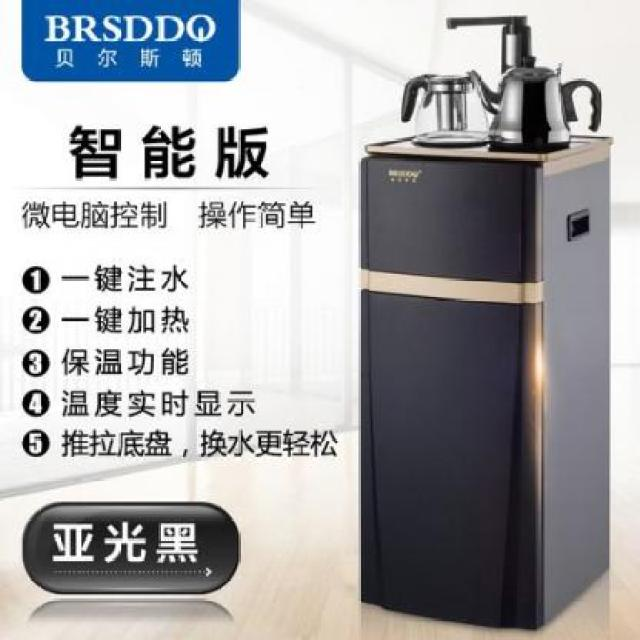cooler: (354, 12, 618, 636)
